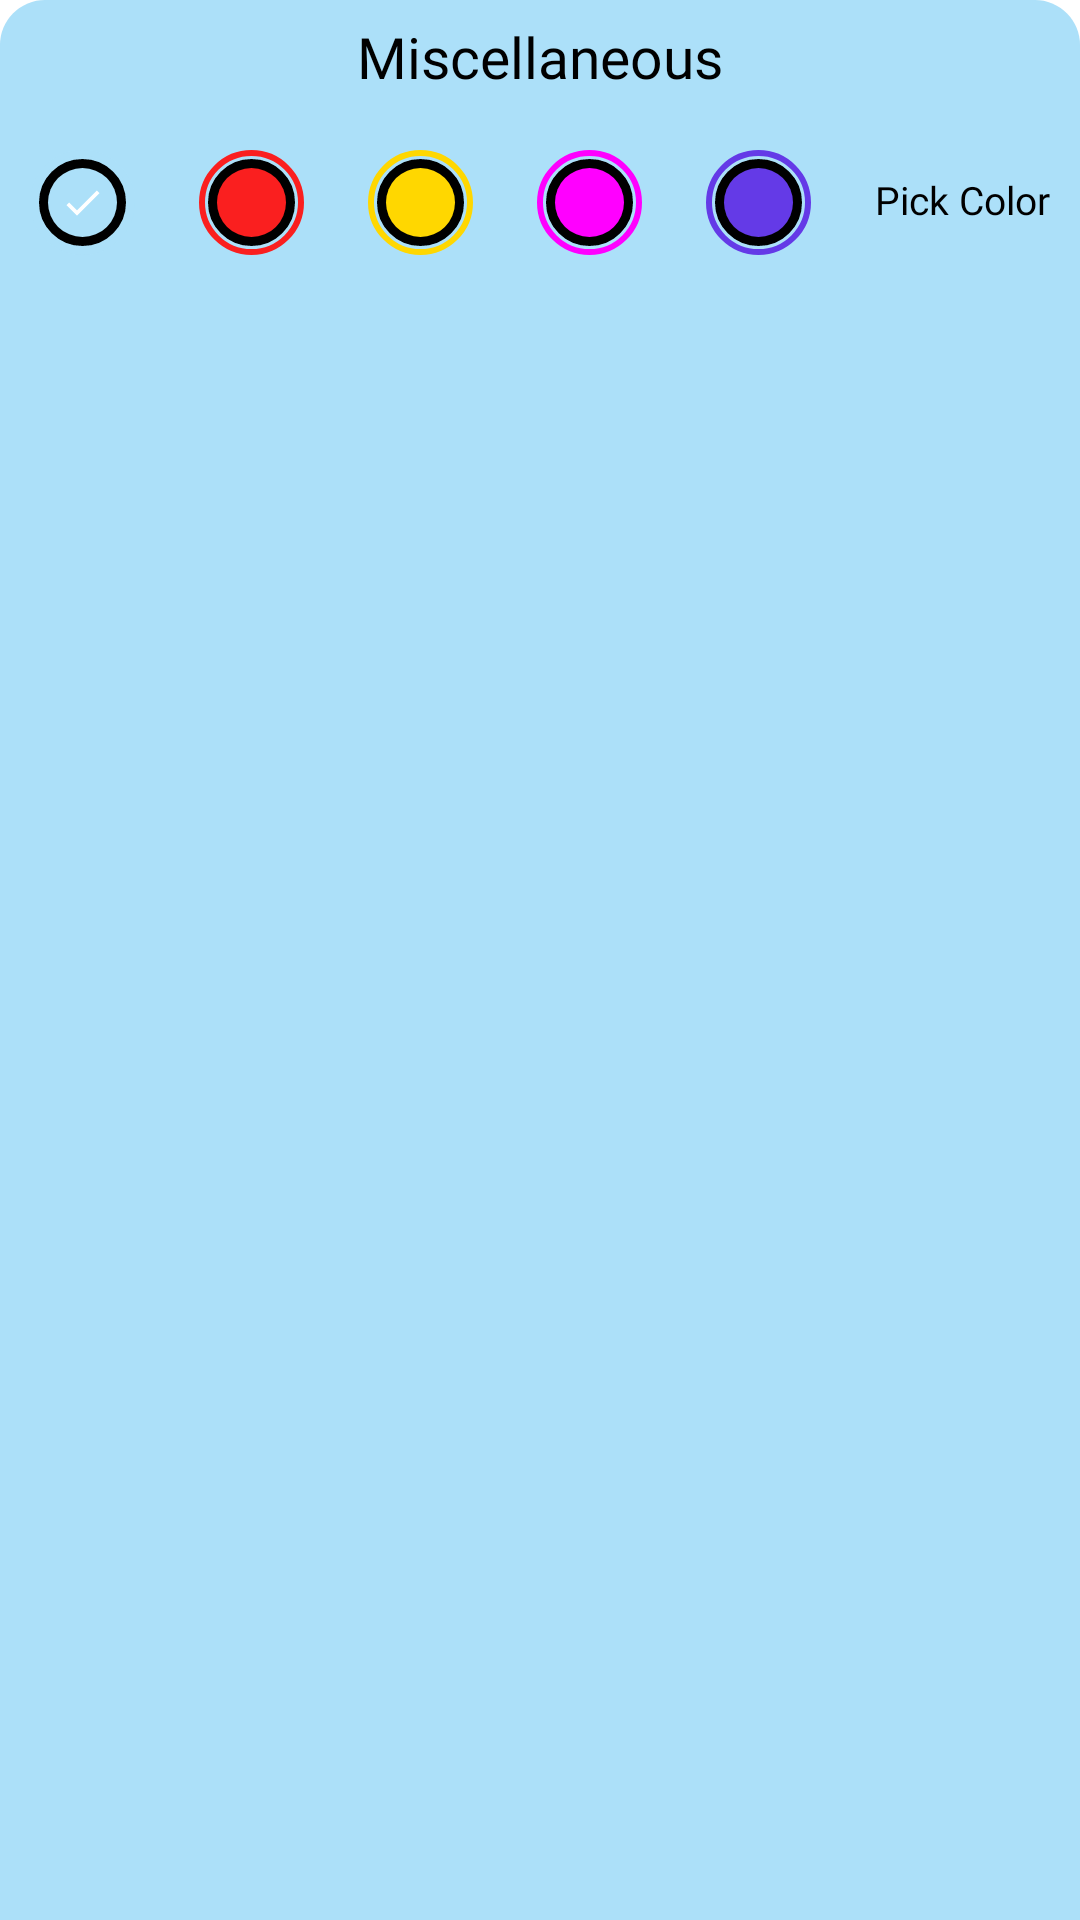

Icons on this 1080px x 1920px Android screen, each with its box as {"left": x1, "top": y1, "right": x2, "bottom": y2}:
done: {"left": 39, "top": 159, "right": 126, "bottom": 246}
